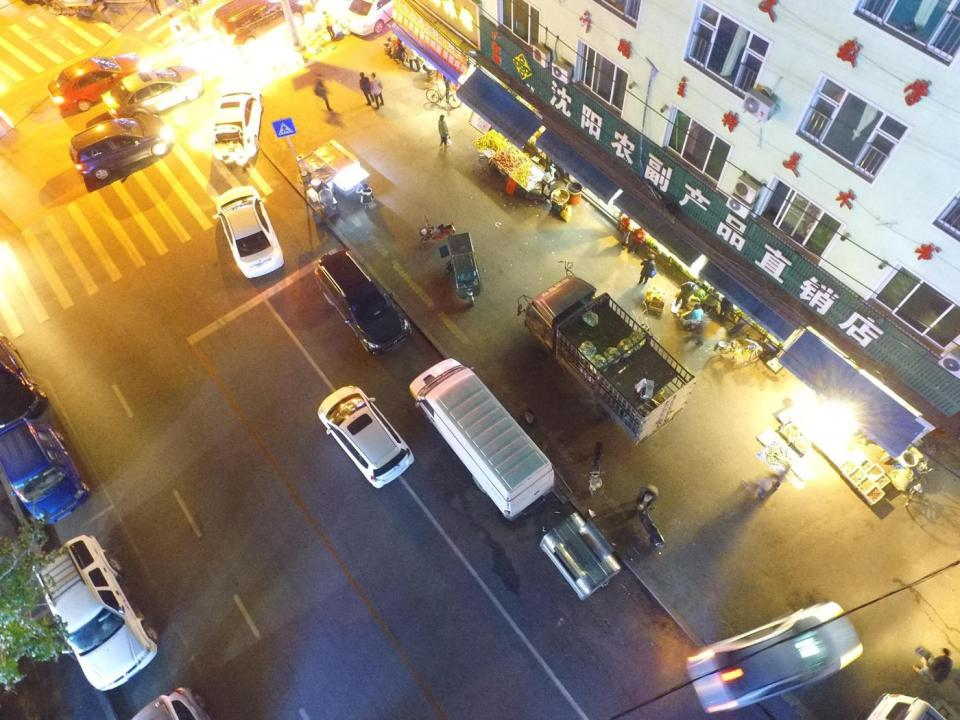car: (32, 530, 161, 692), (685, 600, 864, 716), (317, 382, 415, 489), (68, 113, 174, 182), (215, 184, 285, 280), (46, 49, 145, 112), (100, 62, 204, 119), (210, 0, 313, 49), (0, 334, 49, 435), (210, 84, 265, 164), (119, 684, 213, 720)
truck: (523, 274, 698, 446)
van: (407, 356, 557, 523), (313, 248, 412, 357), (0, 414, 92, 526), (863, 690, 951, 720), (338, 0, 409, 36)
